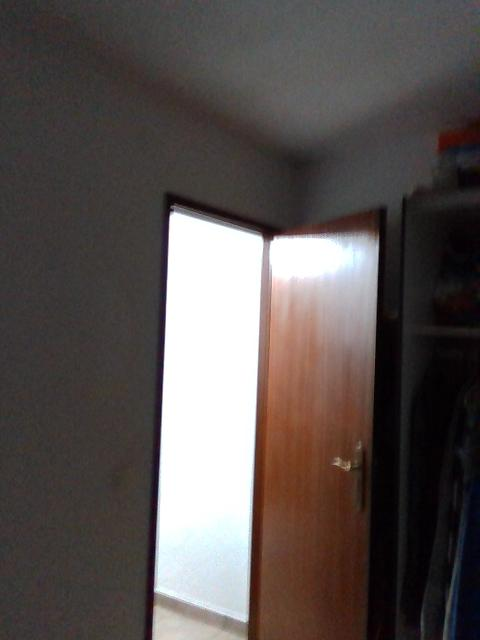open_door: (147, 189, 287, 638)
